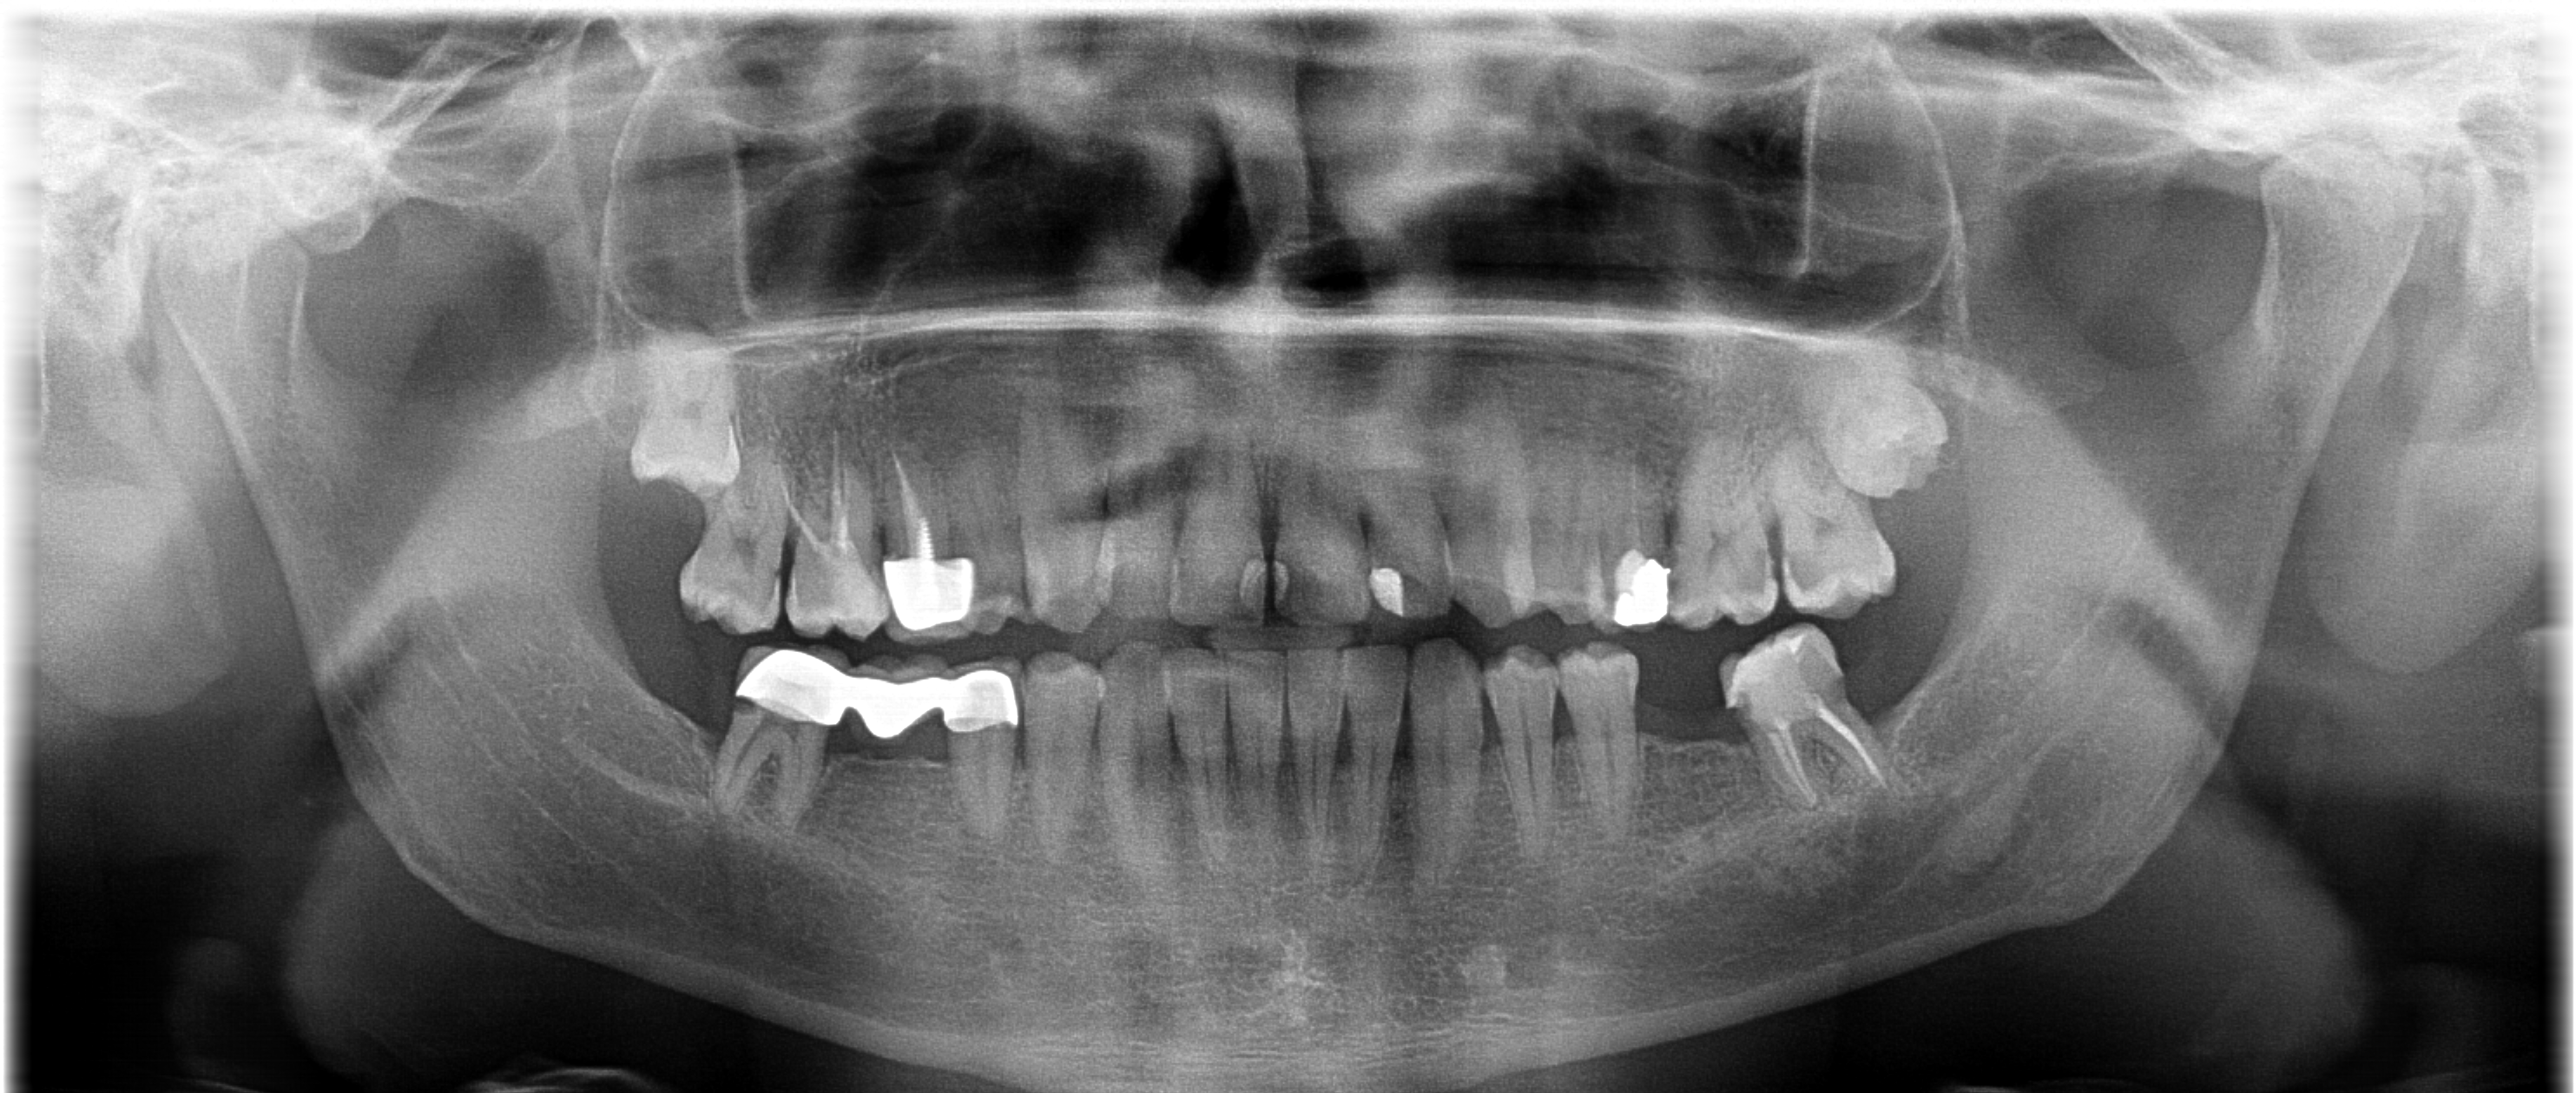cordal: (1791, 334, 1999, 526), (606, 316, 766, 511)
tratamiento_conducto: (1709, 620, 1934, 827), (769, 421, 909, 657)
zona_dentula: (1635, 644, 1750, 837)
